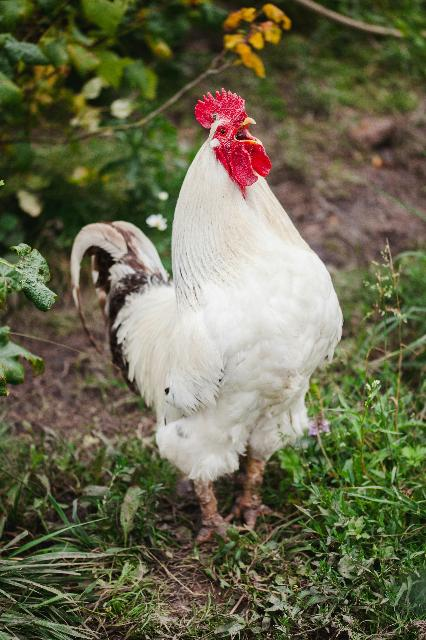Chicken: (71, 90, 345, 540)
